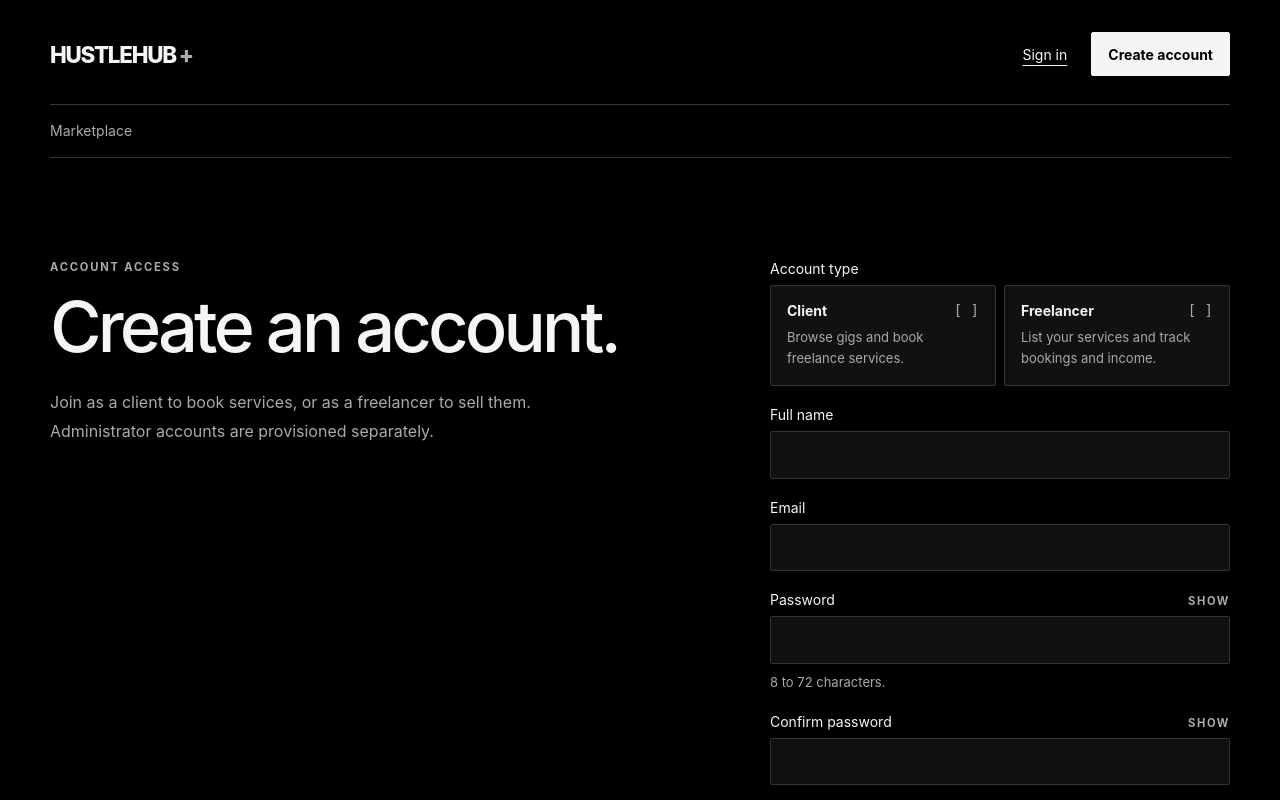
registration › offers only client and freelancer, and sends no admin role or password confirmation
The width and height of the screenshot is (1280, 800).
Click the radio button labelled "Freelancer" at (1117, 336), box [1004,285,1230,386]
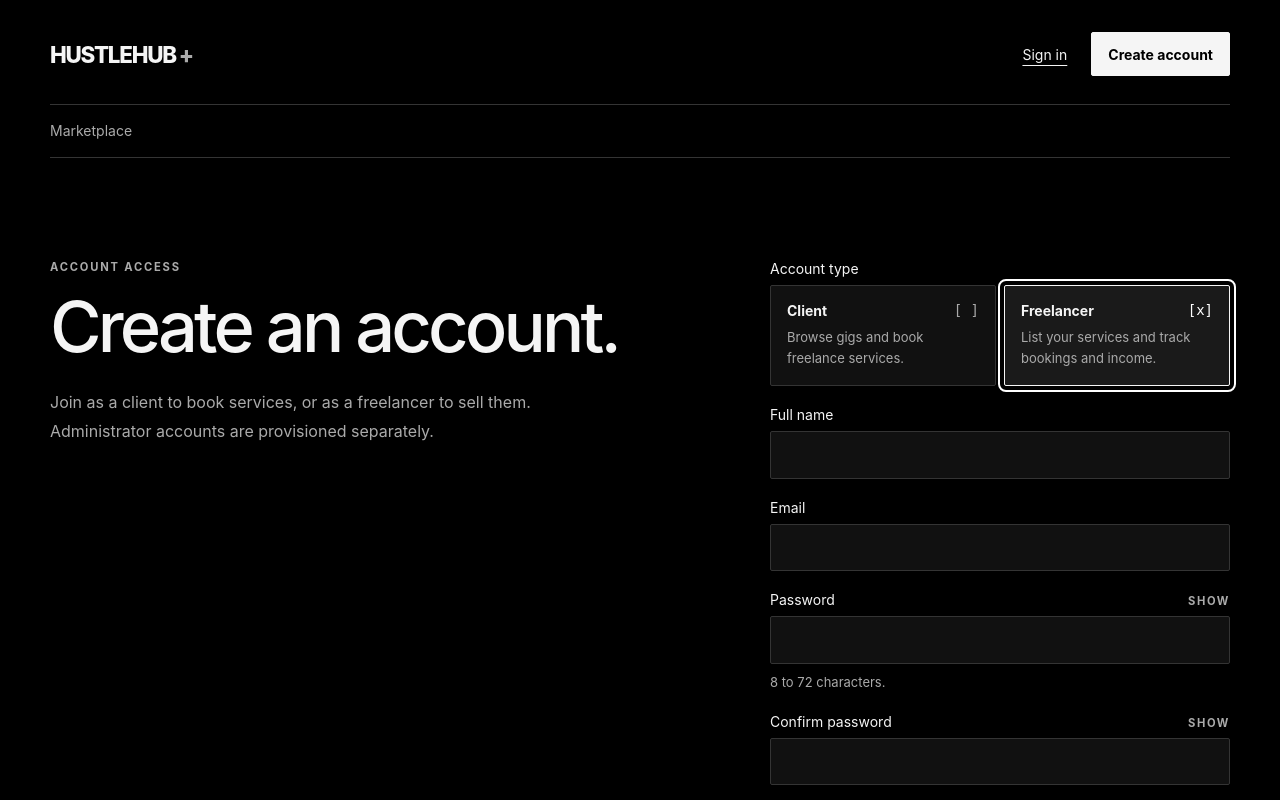
Type "Sam Jones" into the field labelled "Full name" at (1000, 455), box [770,431,1230,479]
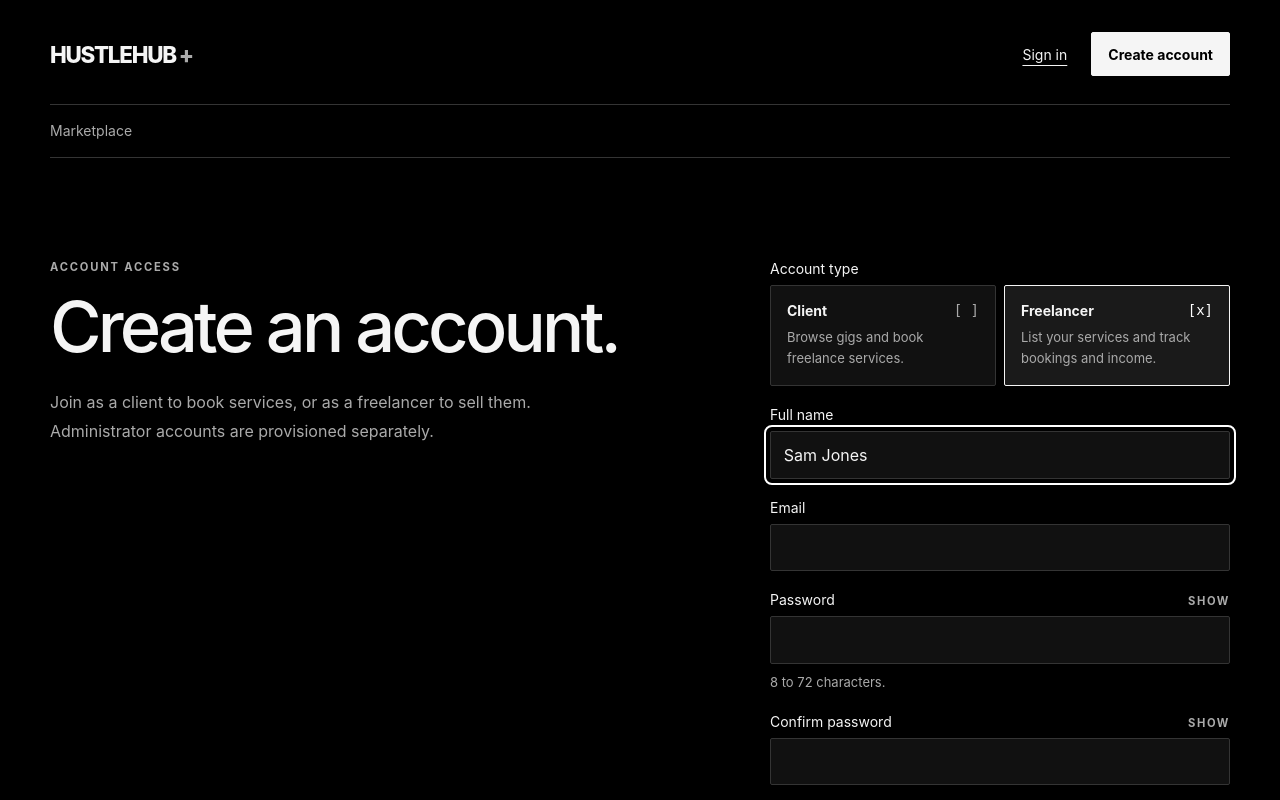
Type "Sam@Example.com" into the field labelled "Email" at (1000, 547), box [770,524,1230,571]
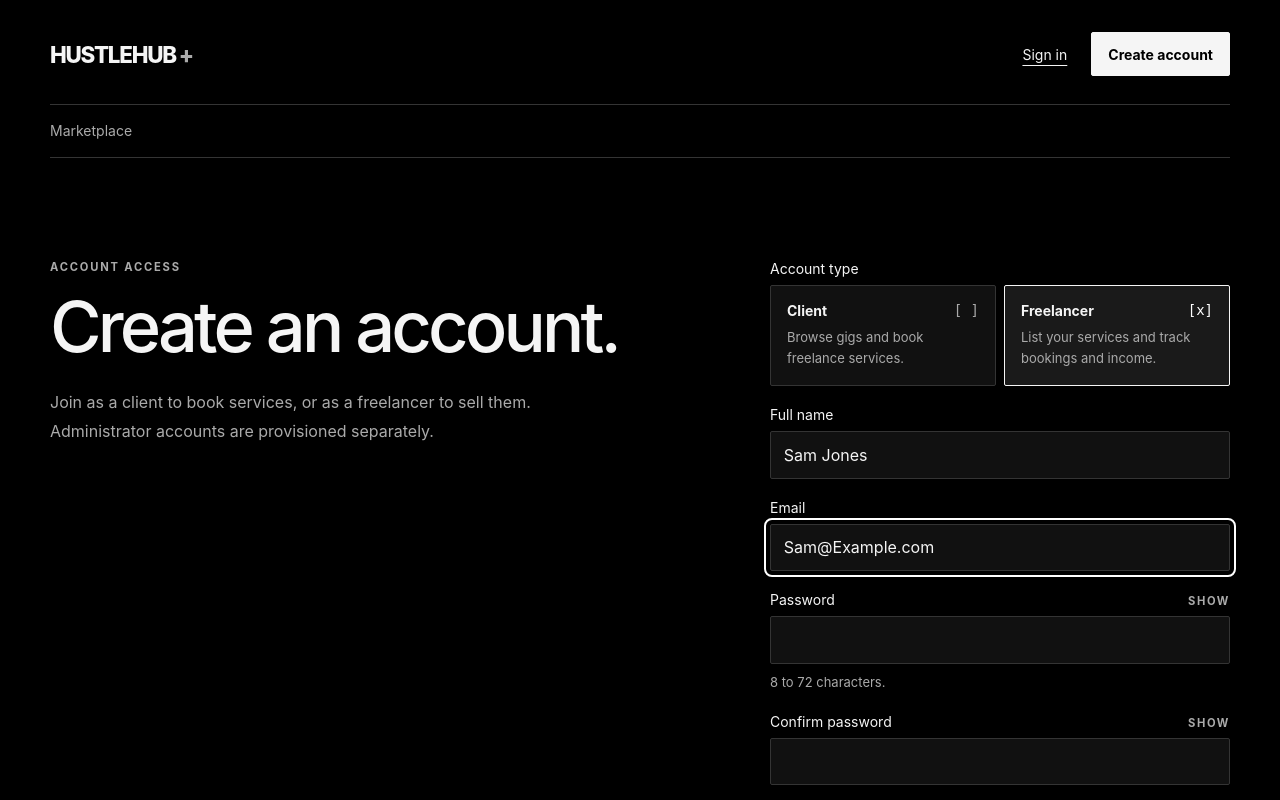
Type "Str0ng-pass!" into the password field labelled "Password" at (1000, 640), box [770,616,1230,664]
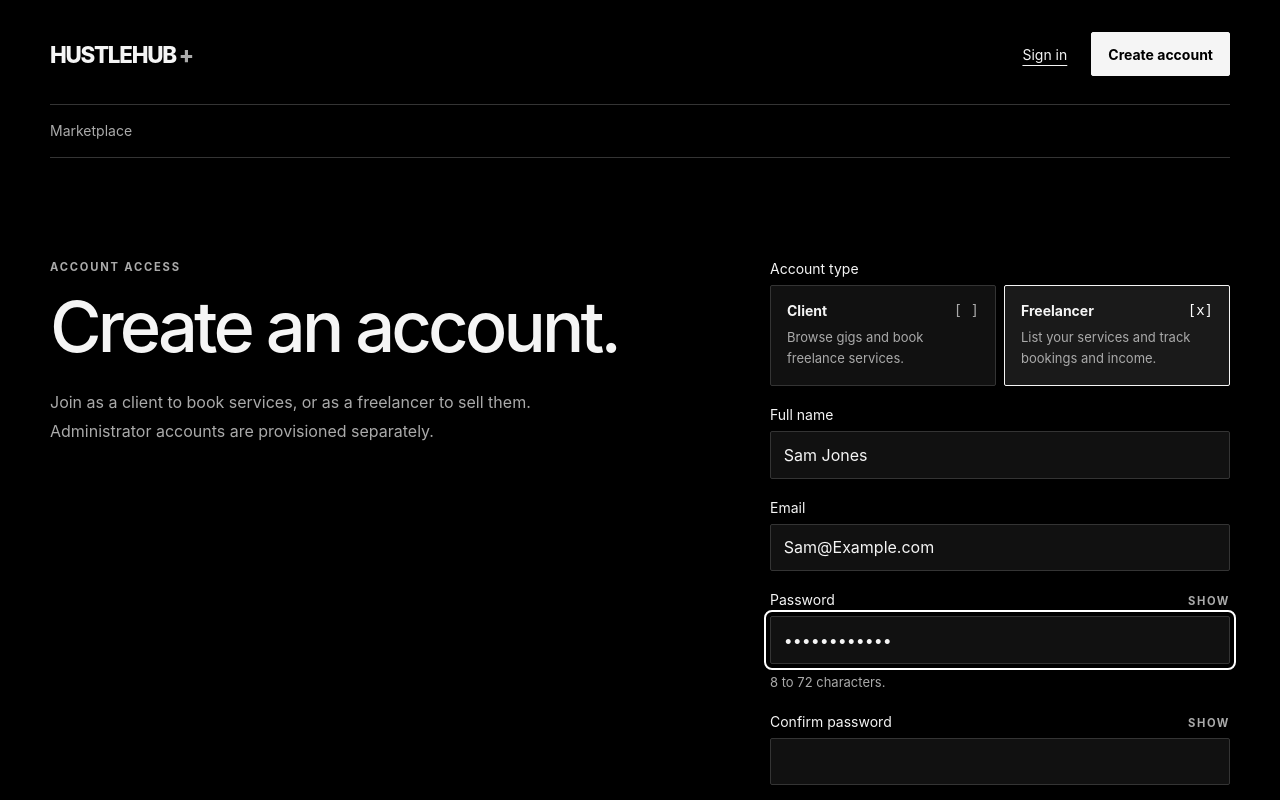
Type "Str0ng-pass!" into the password field labelled "Confirm password" at (1000, 761), box [770,738,1230,785]
(page scrolled)
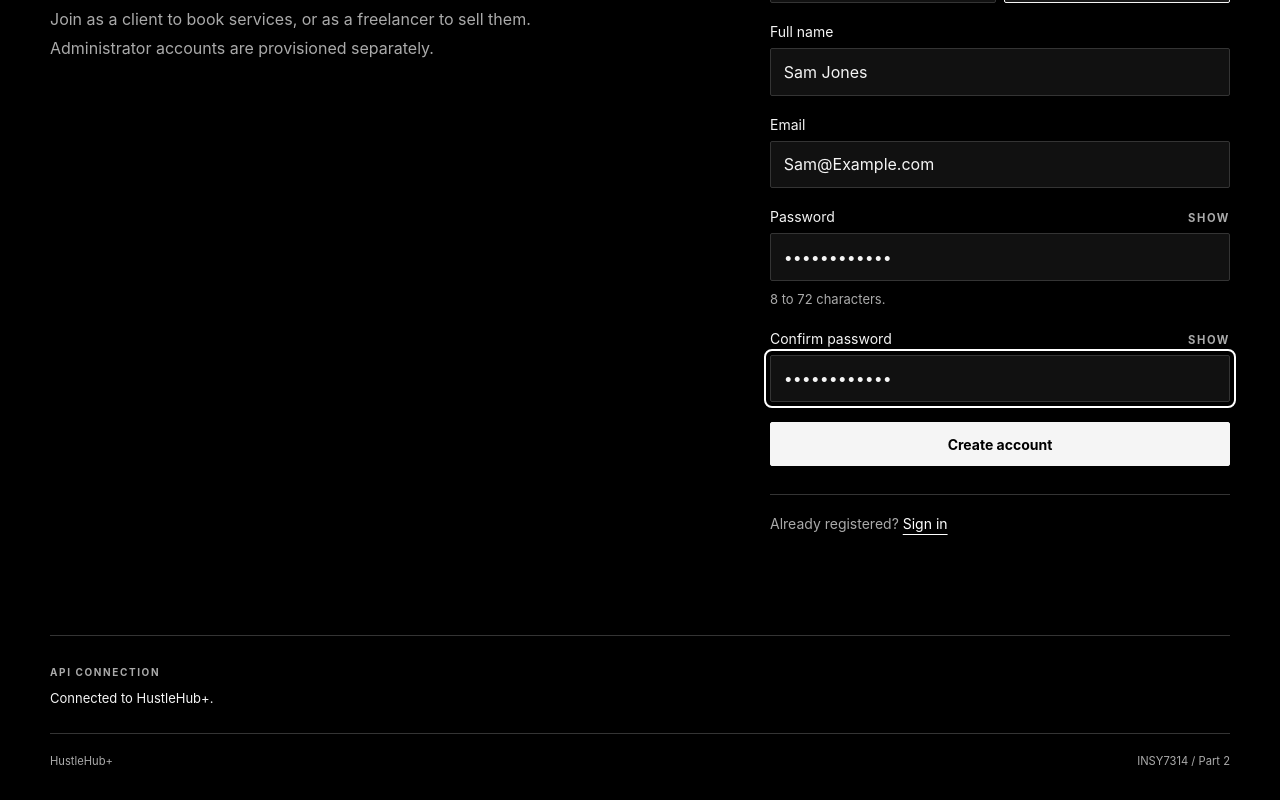
Click the button "Create account" at (1000, 444), box [770,422,1230,466]
(page scrolled)
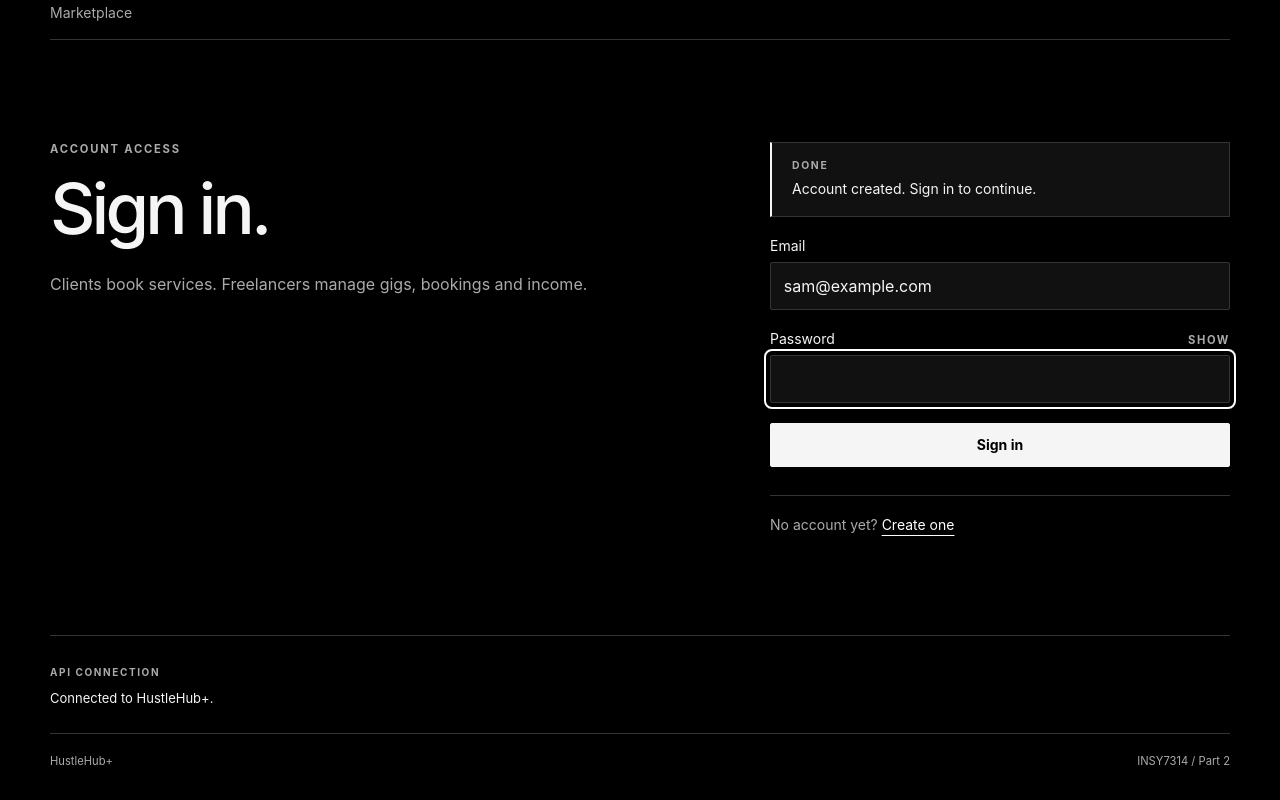
Now the text "Account created. Sign in to continue." is shown, box [792,180,1036,197]
Now the field labelled "Email" holds "sam@example.com", box [770,262,1230,310]
